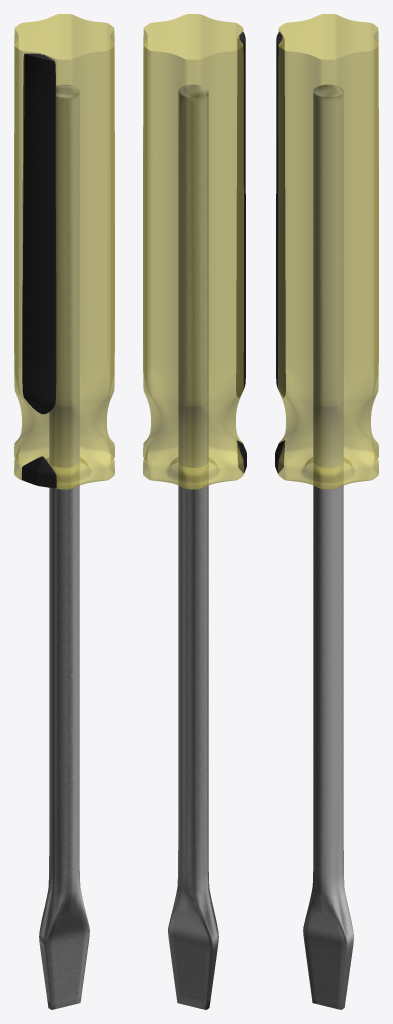
Rendered from Screwdriver.obj.
3 renders of one model, left to right at view 1: azimuth 30°, elevation 25°; view 2: azimuth 150°, elevation 25°; view 3: azimuth 330°, elevation 25°, orthographic.
Parts seen in each view (by area): view 1: Head, Screwdriver, Flat; view 2: Head, Screwdriver, Flat; view 3: Head, Screwdriver, Flat.
Boxes of the visible parts, <box> form: Head: <box>14,14,114,489</box>; Screwdriver: <box>39,84,89,1009</box>; Flat: <box>21,53,56,488</box>; Head: <box>143,14,243,489</box>; Screwdriver: <box>168,84,218,1009</box>; Flat: <box>236,32,246,473</box>; Head: <box>278,14,378,489</box>; Screwdriver: <box>303,84,353,1009</box>; Flat: <box>275,32,285,473</box>.
Size of the model in its own units: 2.14 by 21 by 1.98.
Materials: 2 (2 with a texture image).
